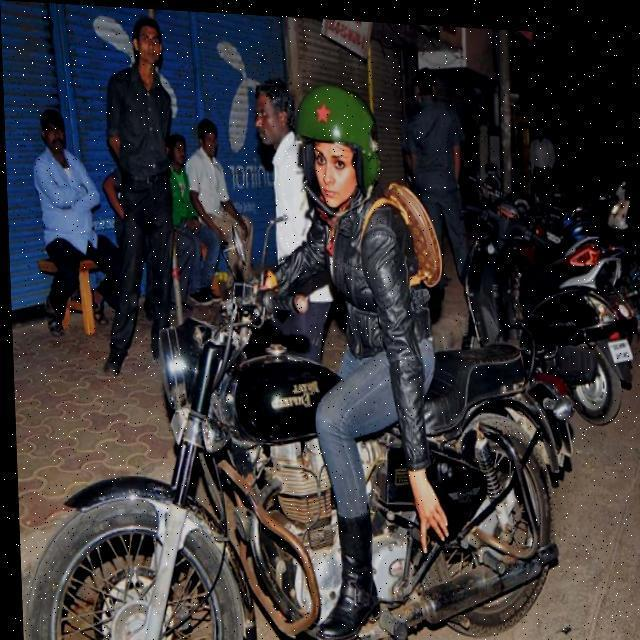Helmet: (283, 68, 384, 216)
